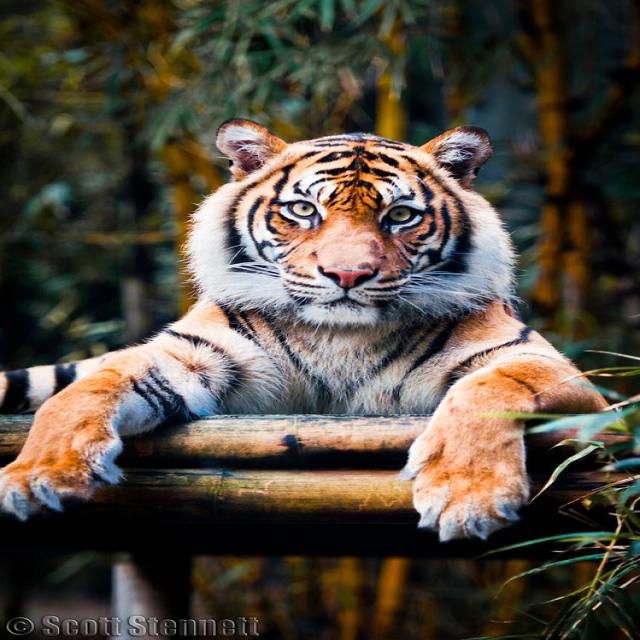Tiger: (0, 116, 613, 543)
